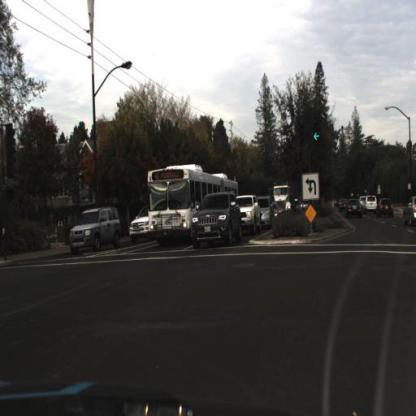car: (190, 190, 243, 251), (66, 204, 126, 255), (251, 195, 280, 235), (233, 194, 260, 236), (130, 206, 156, 241), (404, 202, 416, 227), (347, 201, 363, 218), (381, 201, 395, 218), (366, 196, 379, 211)
trafficLight-GreenLeft: (312, 110, 324, 147)
truck: (146, 163, 241, 246)
